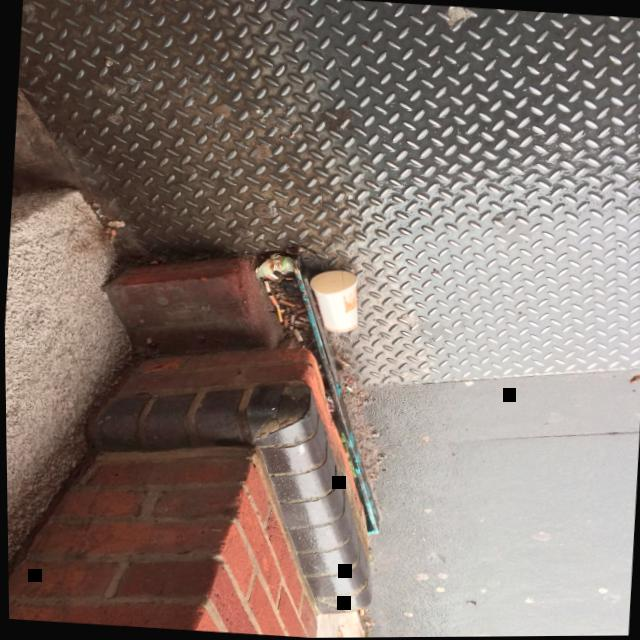Cigarette: (276, 297, 292, 306), (265, 292, 276, 305), (291, 328, 301, 340), (293, 319, 308, 325), (262, 280, 269, 291), (266, 271, 277, 278), (287, 313, 292, 328), (281, 313, 286, 325), (297, 315, 307, 321), (295, 306, 304, 312), (262, 274, 272, 279), (300, 314, 306, 321), (356, 608, 360, 615), (109, 228, 113, 234), (283, 276, 291, 278)
Paper cup: (309, 269, 356, 331)
Unlabeled litter: (253, 252, 292, 280)
